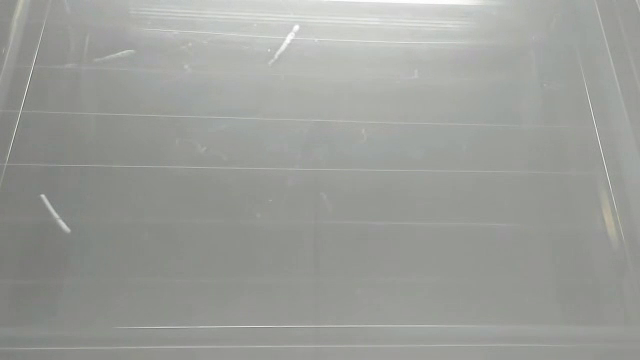alpha: (56, 47, 144, 78), (36, 189, 77, 237), (264, 22, 304, 68)
